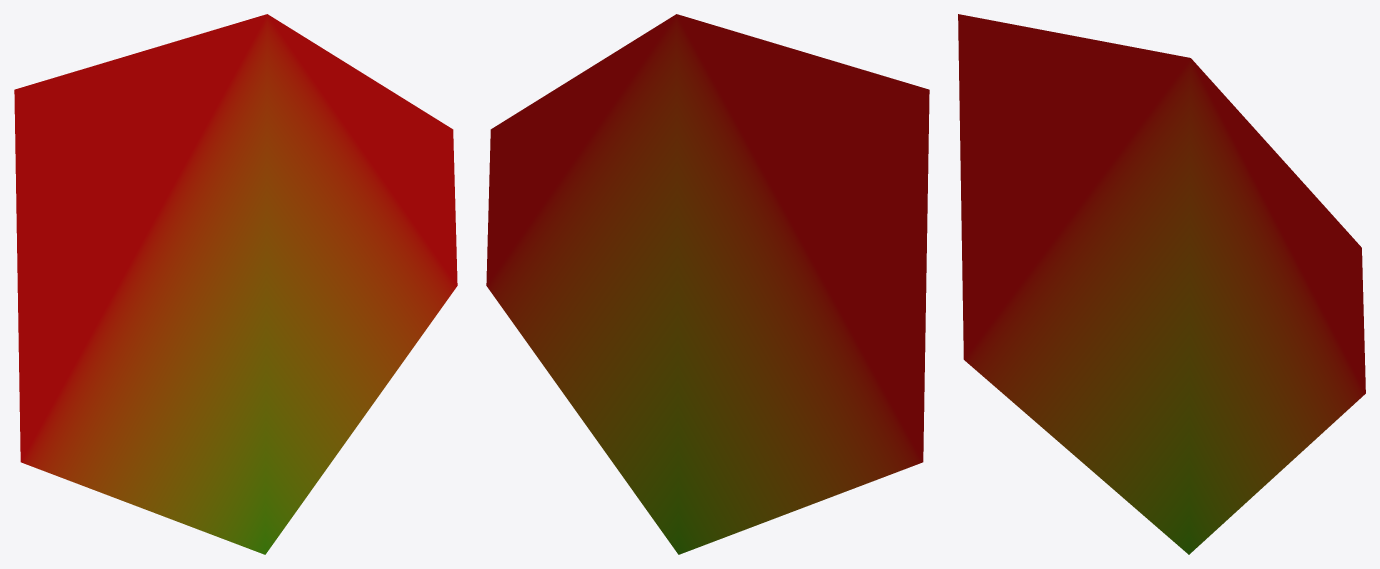
The model's file is Pink Cordyline_LOD3_Var6_sfhhN.fbx.
3 renders of one model, left to right at view 1: azimuth 30°, elevation 25°; view 2: azimuth 150°, elevation 25°; view 3: azimuth 330°, elevation 25°, orthographic. The views are drawn at different scales.
Visible parts, largest first — view 1: _07ac_Var6_LOD3; view 2: _07ac_Var6_LOD3; view 3: _07ac_Var6_LOD3.
Part boxes in pixels (<box>): _07ac_Var6_LOD3: <box>14,14,457,554</box>; _07ac_Var6_LOD3: <box>486,14,929,554</box>; _07ac_Var6_LOD3: <box>958,14,1365,554</box>.
Size of the model in its own units: 84.33 by 98.28 by 7.63e-06.
